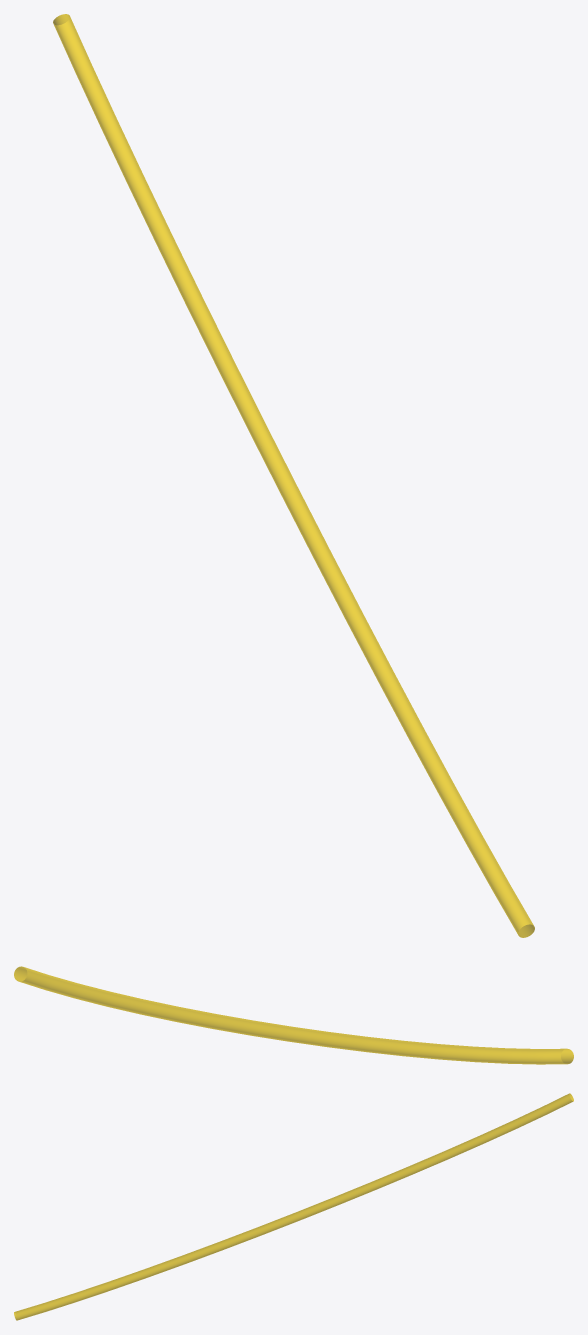
File: Event_75125125_track_11.fbx
The picture shows the model from 3 angles, top to bottom: view 1: azimuth 30°, elevation 25°; view 2: azimuth 150°, elevation 25°; view 3: azimuth 270°, elevation 25°; orthographic projection. The views are drawn at different scales.
Parts seen in each view (by area): view 1: Model; view 2: Model; view 3: Model.
Part boxes in pixels (box(x1,y1,x2,y2)): Model: box(53, 14, 534, 937); Model: box(14, 966, 573, 1064); Model: box(14, 1093, 573, 1320).
Size of the model in its own units: 0.2685 by 1.19 by 2.44.
